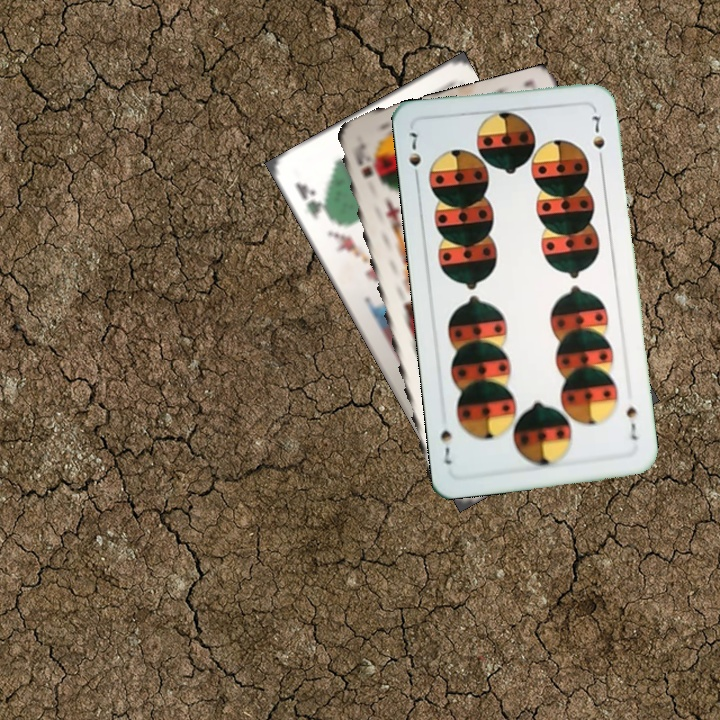GK: (291, 178, 334, 223)
S7: (404, 128, 424, 184), (622, 402, 640, 443)
SK: (350, 143, 384, 189)
